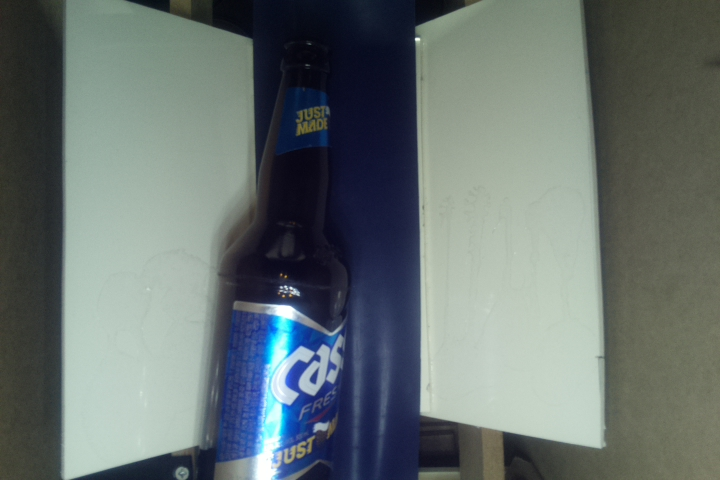makju: (195, 39, 352, 480)
